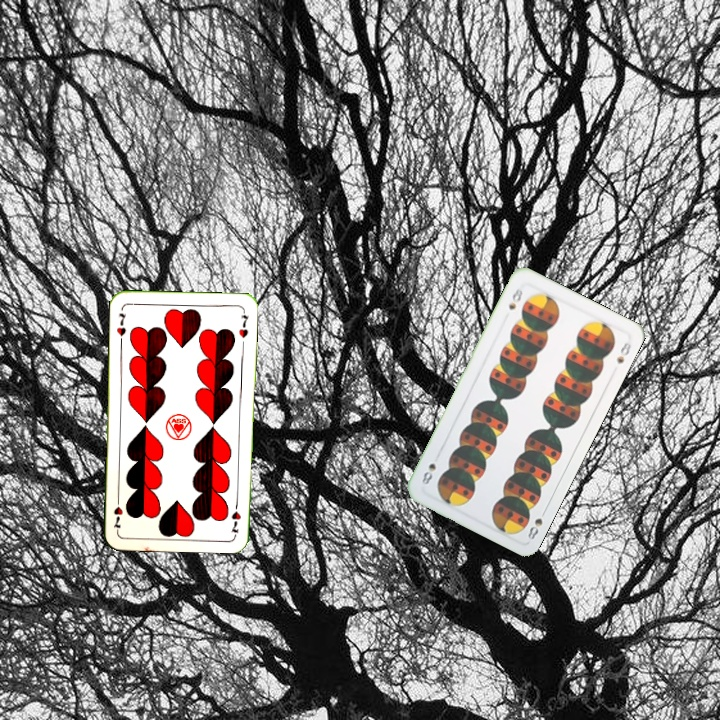H7: (228, 496, 243, 537), (113, 309, 129, 346)
S8: (524, 504, 549, 542), (504, 284, 526, 312)
